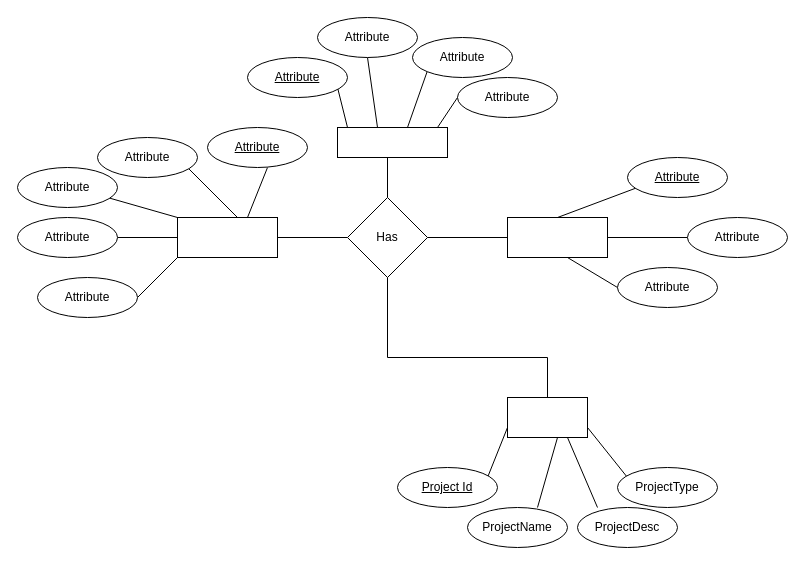
Some shapes in this 805 by 565 pixel diagram are drawn without their labels. Here are the shapes that lost their labels. From the top down, the box of each, then its label:
(336, 126, 448, 158): Login
(176, 216, 278, 258): User
(506, 216, 608, 258): Role
(506, 396, 588, 438): Project
